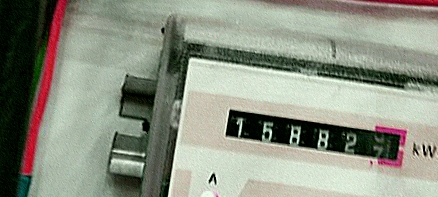1: (233, 112, 249, 136)
2: (342, 128, 361, 154)
5: (260, 116, 277, 142)
7: (372, 139, 386, 157)
8: (315, 125, 332, 150), (288, 121, 304, 146)
screen: (215, 96, 418, 176)
